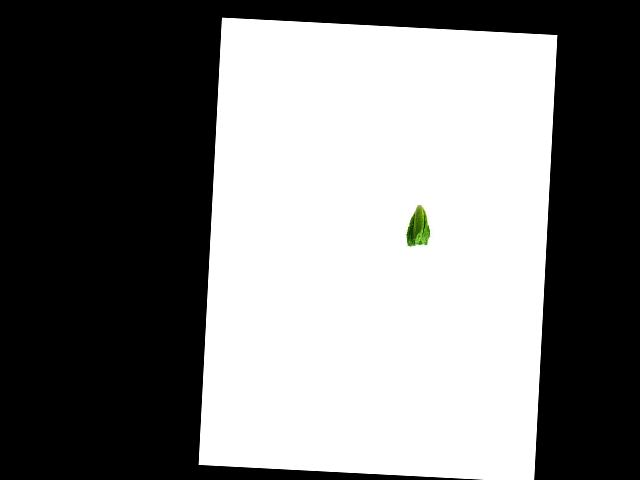lettuce: (402, 202, 435, 249)
